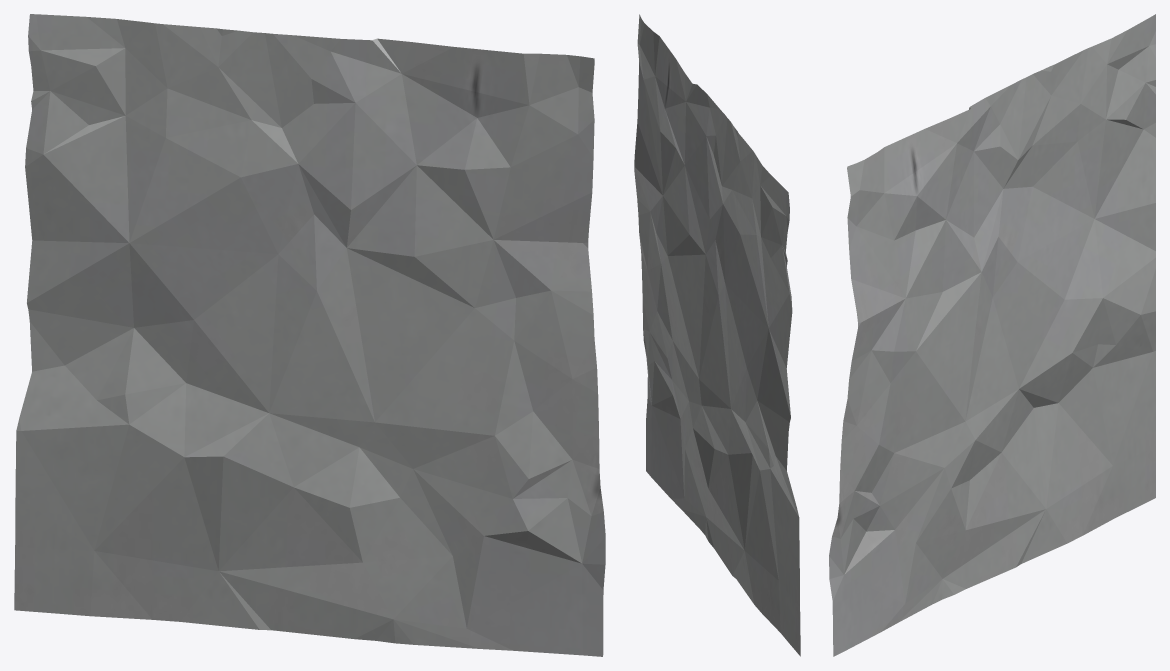
The picture shows the model from 3 angles, left to right: view 1: azimuth 30°, elevation 25°; view 2: azimuth 150°, elevation 25°; view 3: azimuth 270°, elevation 25°; orthographic projection. The views are drawn at different scales.
Bounding box in the file's own units: 0.5825 × 0.8374 × 0.5061.
Materials: 2 (2 with a texture image).
